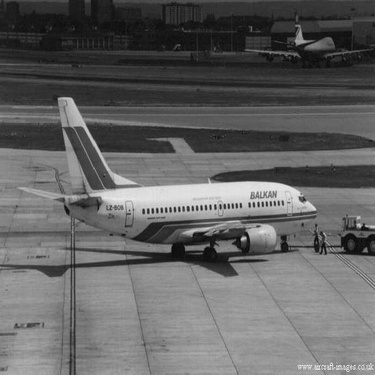airplane: (15, 89, 333, 268), (207, 8, 371, 72)
